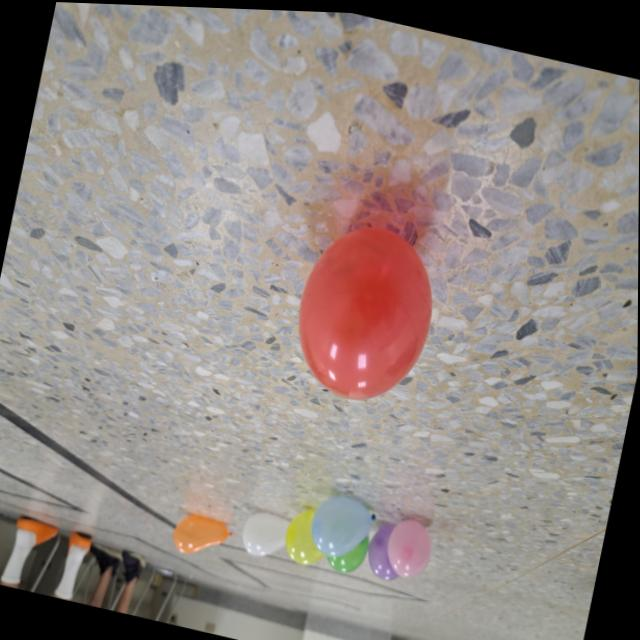other: (308, 486, 380, 562), (169, 508, 238, 562), (383, 512, 436, 581), (281, 499, 334, 567), (240, 509, 291, 562), (324, 522, 372, 577), (364, 519, 406, 579)
red: (283, 206, 449, 413)
